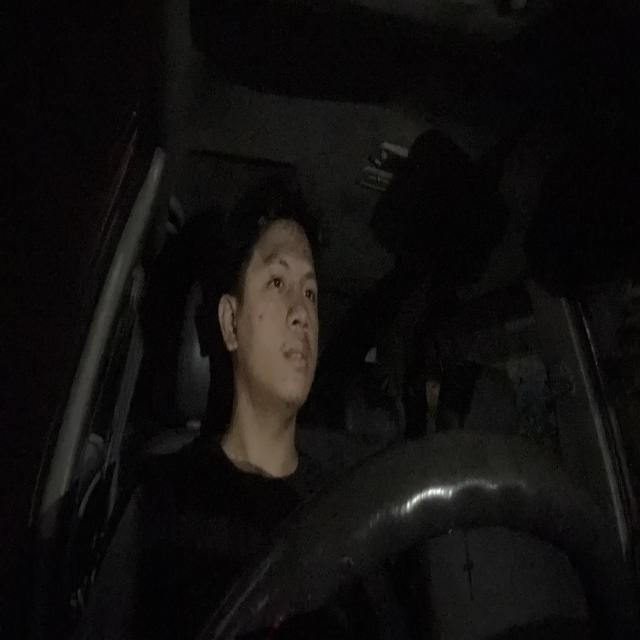open: (261, 250, 291, 309), (299, 269, 320, 315)
